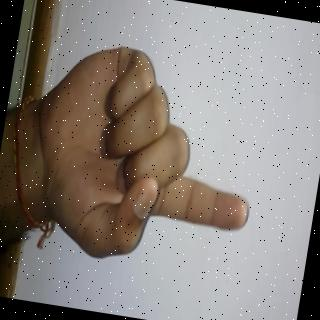I: (24, 29, 278, 294)
